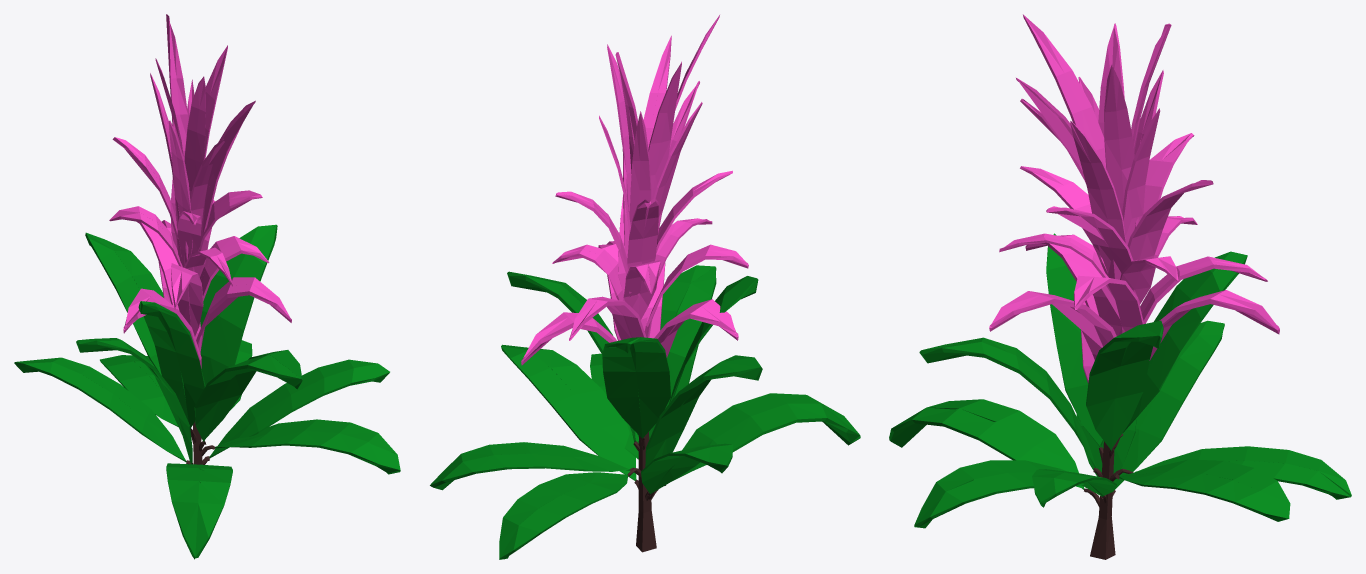
Rendered from ShrubPinkFlower05.fbx.
3 views of the same model, side by side, from view 1: azimuth 30°, elevation 25°; view 2: azimuth 150°, elevation 25°; view 3: azimuth 270°, elevation 25° (orthographic). The views are drawn at different scales.
Parts seen in each view (by area): view 1: ShrubPinkFlower05_LOD0; view 2: ShrubPinkFlower05_LOD0; view 3: ShrubPinkFlower05_LOD0.
Part boxes in pixels (box(x1,y1,x2,y2)): ShrubPinkFlower05_LOD0: box(14, 14, 400, 559); ShrubPinkFlower05_LOD0: box(430, 15, 860, 559); ShrubPinkFlower05_LOD0: box(889, 14, 1351, 559).
Size of what is drawn, in the model's own units: 93.11 by 147 by 116.
